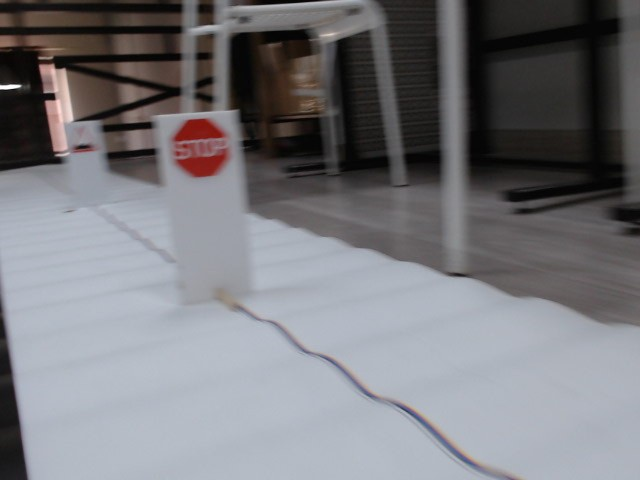Stop: (170, 118, 231, 179)
